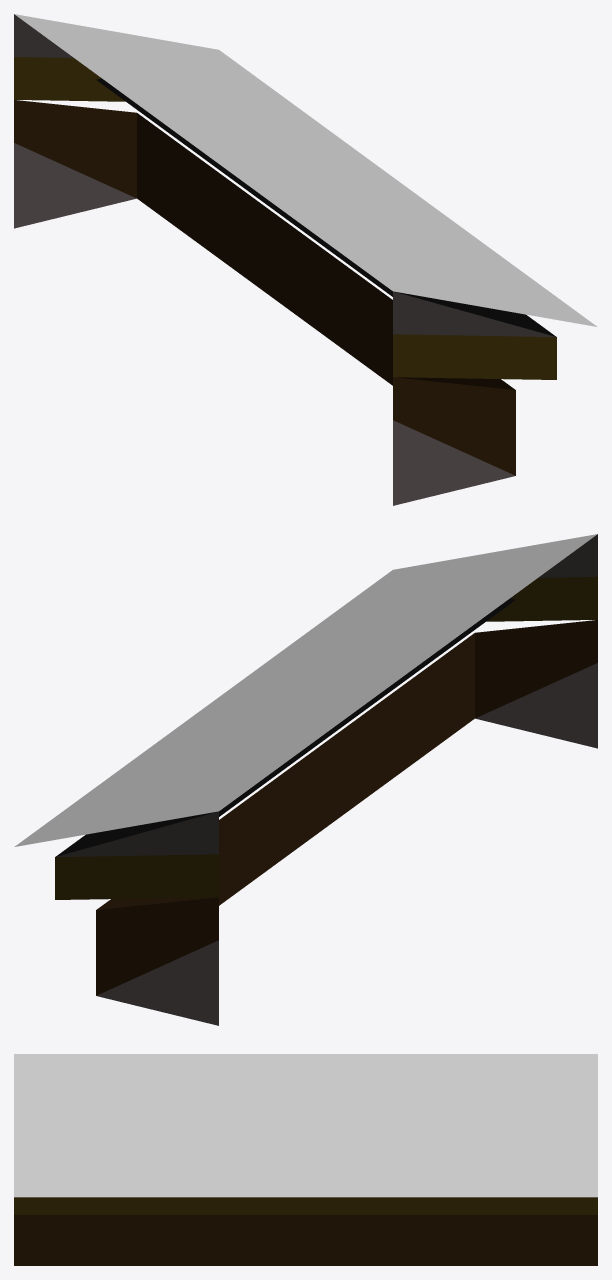
File: model_loc_1790_z.obj
3 renders of one model, top to bottom at view 1: azimuth 30°, elevation 25°; view 2: azimuth 150°, elevation 25°; view 3: azimuth 270°, elevation 25°, orthographic. The views are drawn at different scales.
Parts seen in each view (by area): view 1: 580; view 2: 580; view 3: 580.
Part boxes in pixels (box(x1,y1,x2,y2)): 580: box(14, 14, 597, 505); 580: box(14, 534, 597, 1025); 580: box(14, 1054, 597, 1265).
Size of the model in its own units: 40 by 40 by 128.
